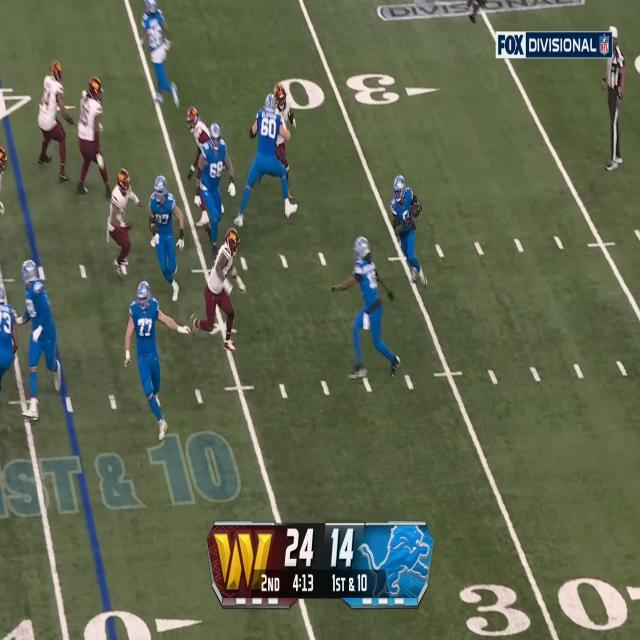Ball: (412, 203, 419, 217)
